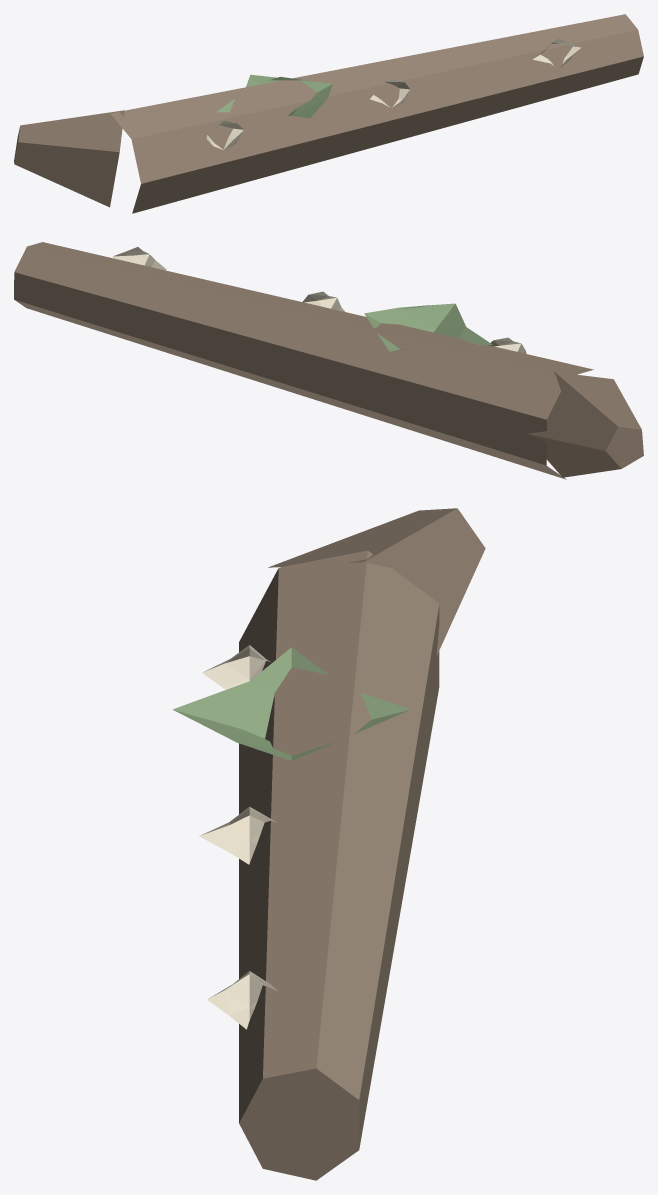
The model's file is log_v46.glb.
3 views of the same model, one above another, from view 1: azimuth 30°, elevation 25°; view 2: azimuth 150°, elevation 25°; view 3: azimuth 270°, elevation 25° (orthographic). The views are drawn at different scales.
Parts seen in each view (by area): view 1: lod0; view 2: lod0; view 3: lod0.
Part boxes in pixels (x1=…): lod0: x1=14, y1=14, x2=643, y2=213; lod0: x1=14, y1=242, x2=643, y2=479; lod0: x1=172, y1=508, x2=485, y2=1180.
Size of what is drawn, in the model's own units: 3.59 by 0.627 by 0.8321.
